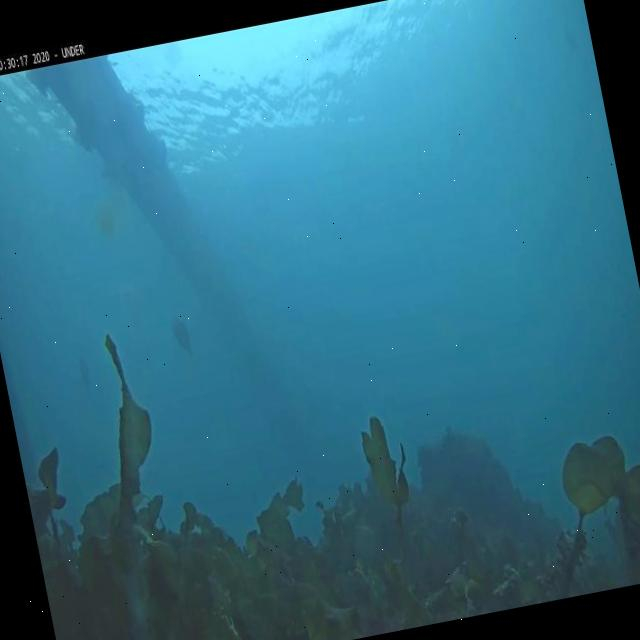fish: (164, 310, 198, 364), (73, 348, 94, 392)
